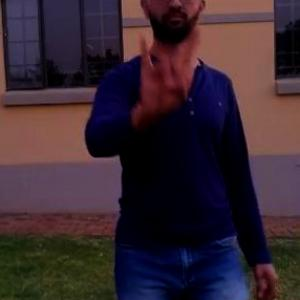takeoff-hand: (131, 22, 202, 121)
